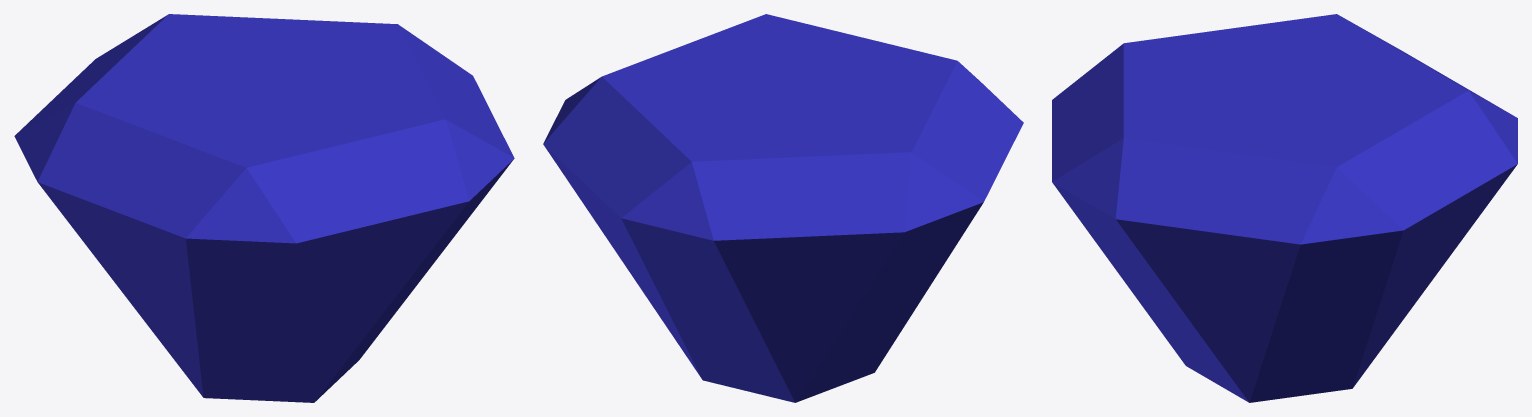
The model's file is sapphire_item.glb.
The picture shows the model from 3 angles, left to right: view 1: azimuth 30°, elevation 25°; view 2: azimuth 150°, elevation 25°; view 3: azimuth 270°, elevation 25°; orthographic projection. The views are drawn at different scales.
Parts seen in each view (by area): view 1: Cone; view 2: Cone; view 3: Cone.
Boxes of the visible parts, box(x1,y1,x2,y2) form: Cone: box(14, 14, 514, 402); Cone: box(543, 14, 1023, 402); Cone: box(1052, 14, 1517, 402).
Bounding box in the file's own units: 0.7741 × 0.4801 × 0.7362.
